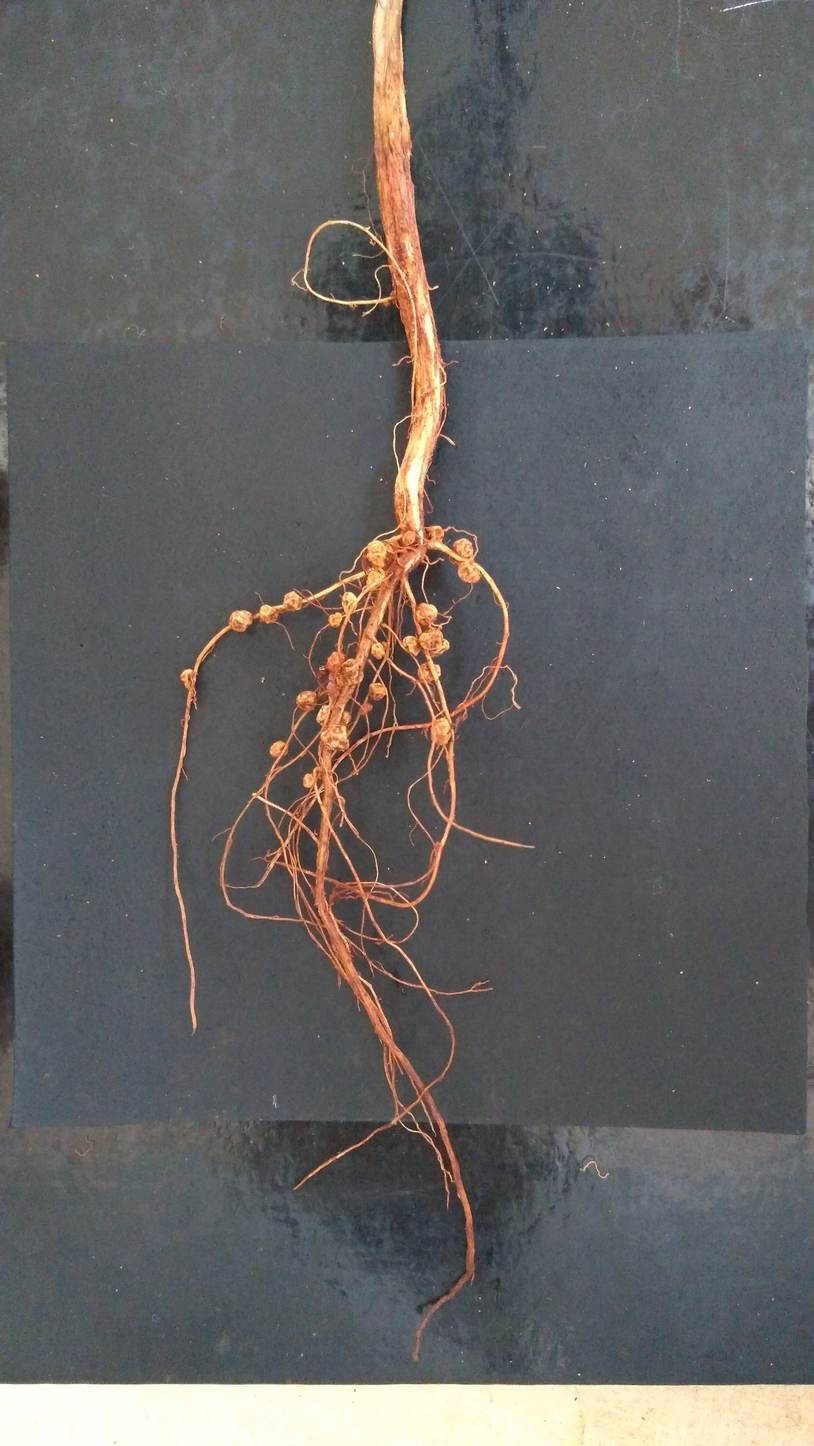nodule: (326, 651, 345, 704), (320, 724, 349, 751), (336, 658, 363, 686), (316, 705, 351, 726), (448, 538, 473, 566), (431, 718, 452, 745), (415, 602, 438, 626), (229, 609, 253, 632), (418, 629, 444, 650), (417, 662, 441, 684), (457, 562, 482, 583), (366, 541, 386, 567), (283, 591, 303, 612), (429, 638, 449, 658), (297, 691, 317, 711), (259, 605, 279, 624), (366, 570, 384, 591), (180, 668, 196, 691), (403, 636, 421, 656), (341, 592, 357, 614), (425, 525, 444, 543), (369, 682, 387, 701), (270, 740, 287, 757), (399, 531, 416, 546), (371, 642, 385, 659), (328, 612, 342, 627), (360, 702, 373, 715), (303, 774, 315, 788), (332, 795, 345, 807), (390, 290, 396, 304), (383, 298, 391, 307), (382, 641, 390, 650)
